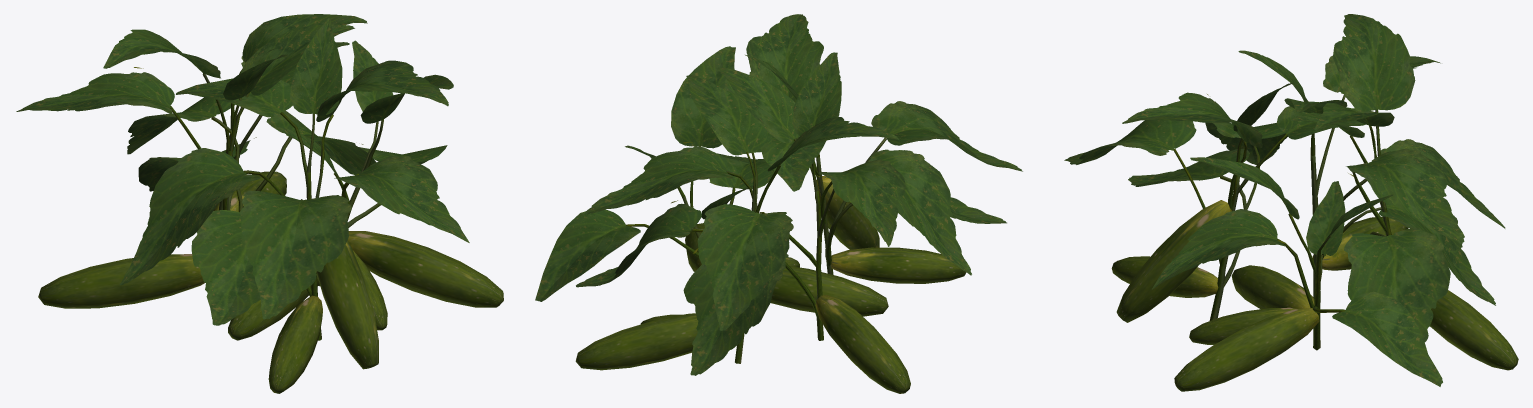
File: cargo_cucumber.glb
The picture shows the model from 3 angles, left to right: view 1: azimuth 30°, elevation 25°; view 2: azimuth 150°, elevation 25°; view 3: azimuth 270°, elevation 25°; orthographic projection. The views are drawn at different scales.
Visible parts, largest first — view 1: KB3D_CSK_PropCucumber_A_Main; view 2: KB3D_CSK_PropCucumber_A_Main; view 3: KB3D_CSK_PropCucumber_A_Main.
Part boxes in pixels (left/top/right/bottom): KB3D_CSK_PropCucumber_A_Main: left=16, top=14, right=503, bottom=393; KB3D_CSK_PropCucumber_A_Main: left=535, top=14, right=1022, bottom=393; KB3D_CSK_PropCucumber_A_Main: left=1064, top=14, right=1518, bottom=391.
Size of the model in its own units: 0.7558 by 0.5128 by 0.8.
Materials: 1 (1 with a texture image).
